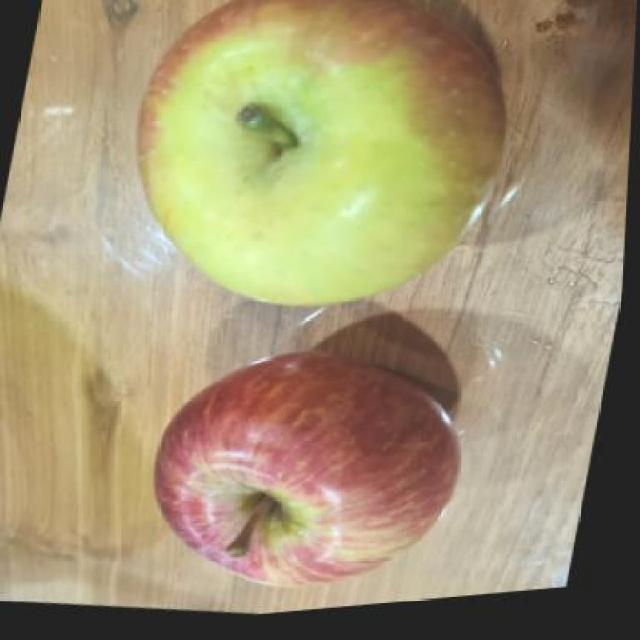Fresh Apple: (132, 4, 500, 311), (156, 354, 472, 640)
